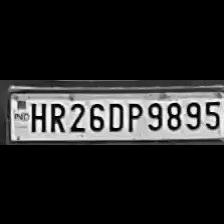2: (65, 98, 85, 132)
5: (202, 96, 222, 130)
6: (85, 99, 105, 131)
8: (163, 97, 183, 130)
9: (144, 98, 162, 130), (182, 97, 200, 129)
D: (105, 99, 124, 131)
H: (28, 98, 46, 132)
P: (124, 99, 142, 131)
R: (45, 98, 65, 132)
